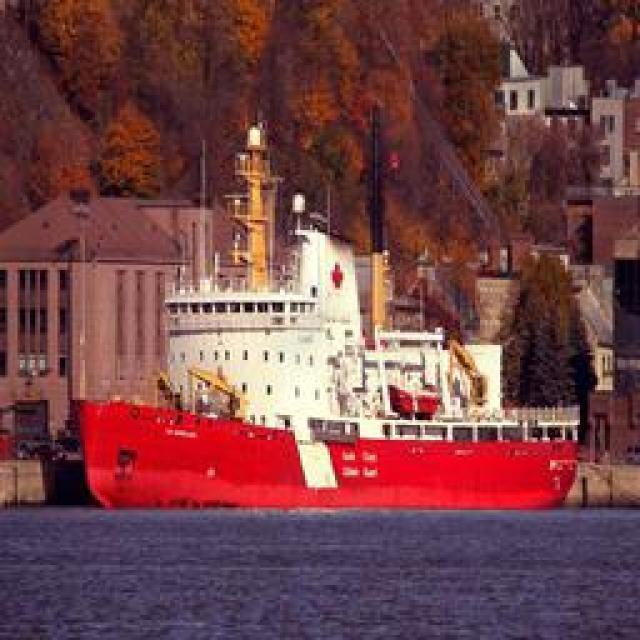ship2: (78, 97, 578, 512)
